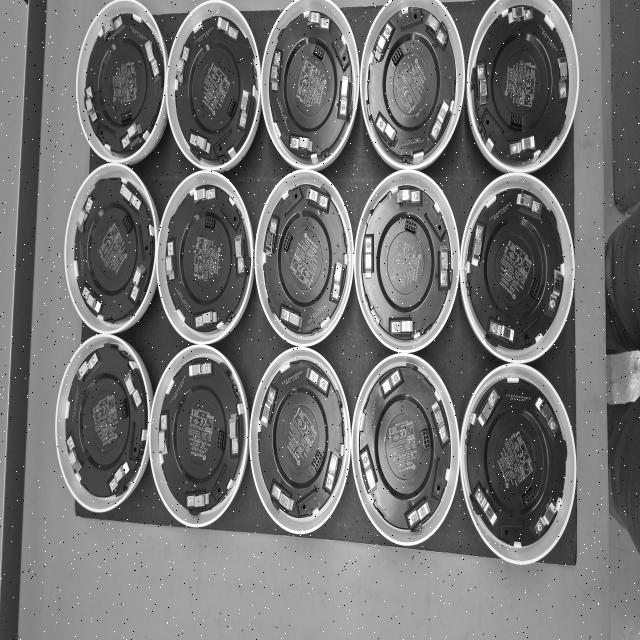yayli: (534, 395, 559, 435), (533, 496, 558, 536), (474, 485, 497, 528), (359, 445, 378, 494), (322, 448, 342, 494), (477, 388, 500, 428), (372, 111, 397, 147), (405, 496, 431, 530), (378, 367, 405, 399), (430, 100, 450, 143), (372, 23, 393, 63), (426, 12, 448, 50), (432, 400, 449, 446), (259, 386, 277, 428), (108, 460, 130, 494), (306, 366, 330, 397), (548, 269, 564, 314), (270, 482, 294, 512), (124, 370, 143, 407), (304, 187, 331, 213), (470, 223, 485, 269), (331, 260, 347, 303), (77, 351, 99, 382), (488, 320, 516, 344), (76, 197, 94, 234), (119, 182, 141, 212), (509, 134, 536, 158), (66, 435, 82, 475), (516, 192, 542, 216), (264, 217, 280, 256), (144, 40, 160, 79), (337, 74, 350, 120), (101, 14, 122, 42), (131, 263, 146, 301), (122, 121, 143, 148), (238, 89, 252, 129), (82, 286, 101, 315), (176, 45, 190, 84), (84, 86, 98, 124), (217, 16, 239, 40), (189, 131, 211, 155), (476, 63, 488, 107), (438, 244, 449, 290), (280, 306, 302, 329), (234, 234, 246, 276), (508, 5, 533, 25), (270, 51, 282, 91), (307, 11, 330, 31), (290, 135, 313, 155), (363, 234, 373, 280), (389, 318, 413, 337), (229, 414, 240, 454), (558, 58, 568, 100), (194, 310, 216, 329), (396, 188, 419, 206), (190, 361, 213, 379), (158, 414, 168, 454), (194, 187, 217, 204), (186, 492, 208, 509), (166, 240, 175, 280)
